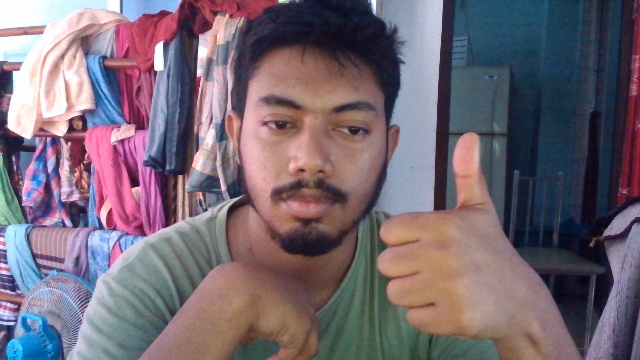yes: (372, 134, 548, 347)
